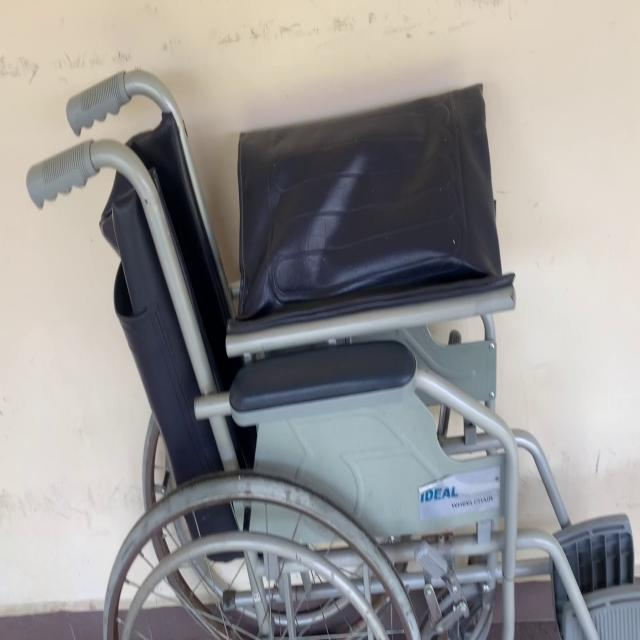wheelchair: (20, 55, 640, 640)
